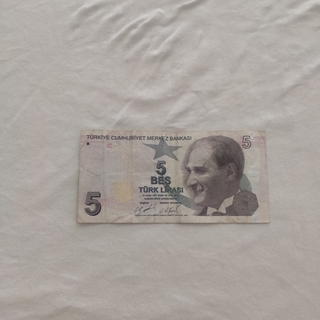5TLFront: (76, 129, 272, 224)
